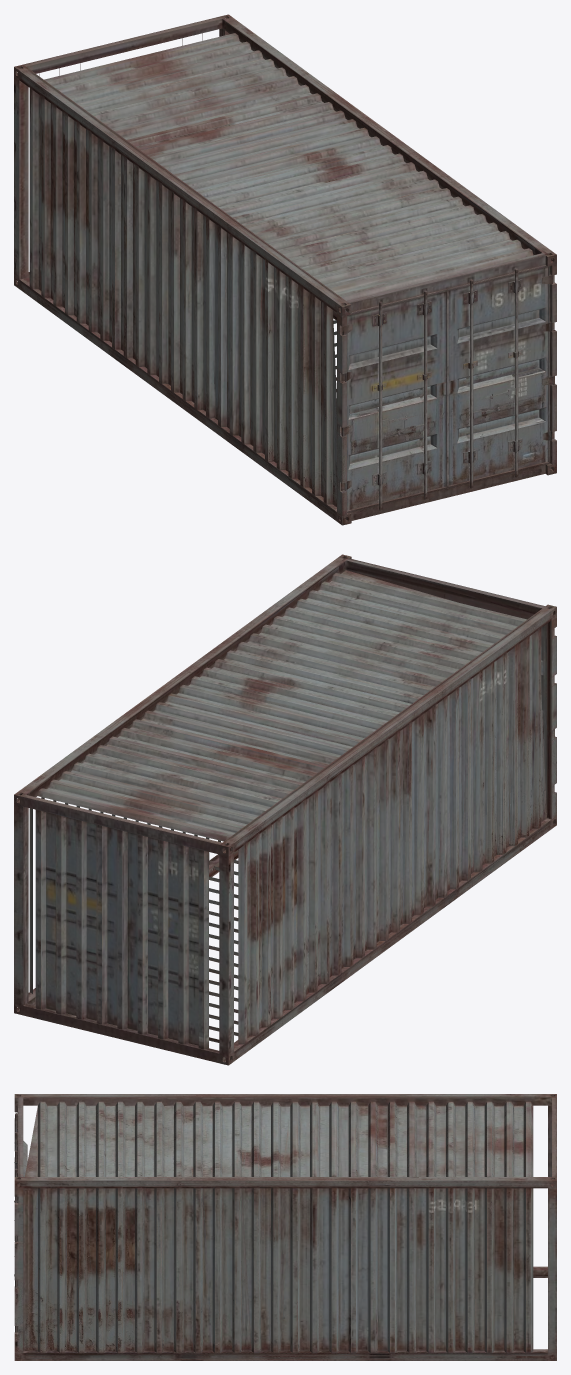
The model's file is container.glb.
3 views of the same model, one above another, from view 1: azimuth 30°, elevation 25°; view 2: azimuth 150°, elevation 25°; view 3: azimuth 270°, elevation 25° (orthographic). The views are drawn at different scales.
Visible parts, largest first — view 1: container; view 2: container; view 3: container.
Part boxes in pixels (x1=…): container: x1=14, y1=14, x2=556, y2=525; container: x1=14, y1=554, x2=556, y2=1065; container: x1=14, y1=1094, x2=556, y2=1360.
Bounding box in the file's own units: 0.754 × 0.7333 × 2.
Materials: 1 (1 with a texture image).
